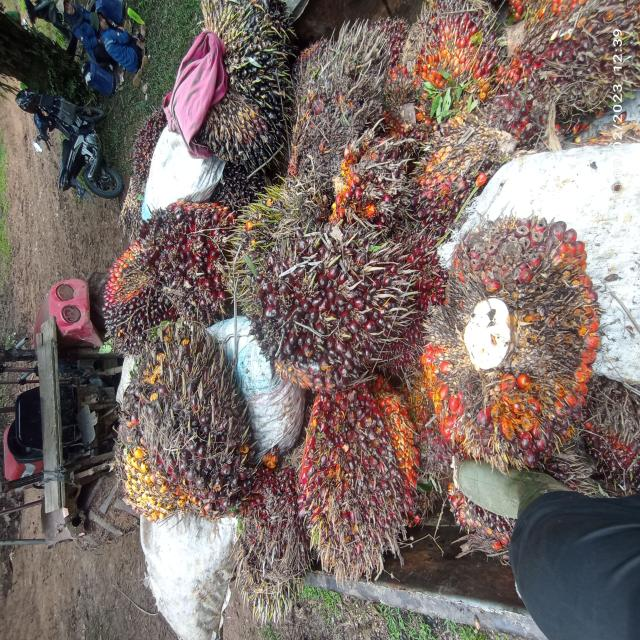fraksi 00: (181, 0, 303, 182), (92, 228, 168, 362)
fraksi 1: (250, 219, 430, 400), (109, 324, 256, 525), (138, 192, 255, 322), (239, 463, 312, 596), (330, 127, 402, 232)
fraksi 3: (420, 202, 602, 473), (297, 385, 423, 577), (404, 1, 503, 122)
